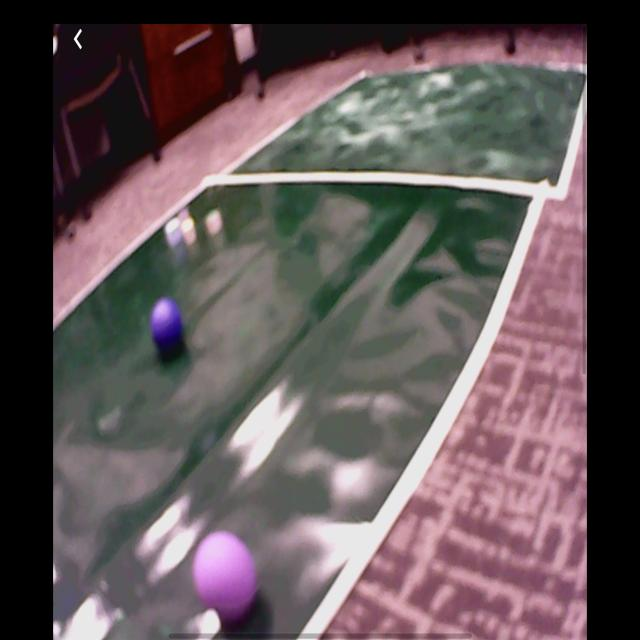ball: (194, 532, 260, 625), (152, 299, 184, 351)
